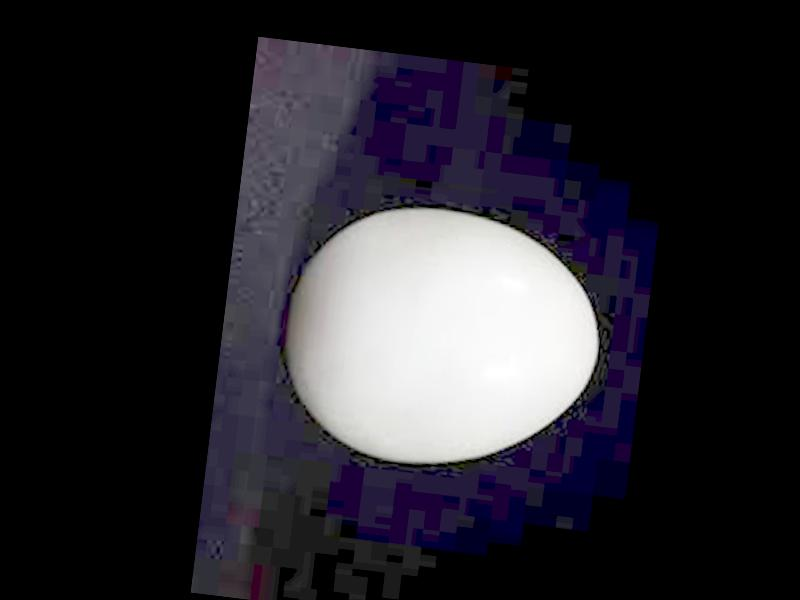Eggs: (270, 195, 609, 479)
